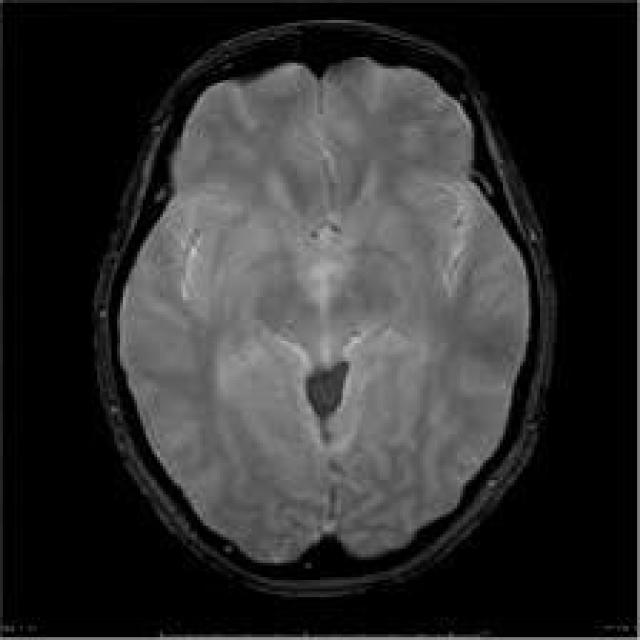no_tumor: (82, 15, 560, 601)
